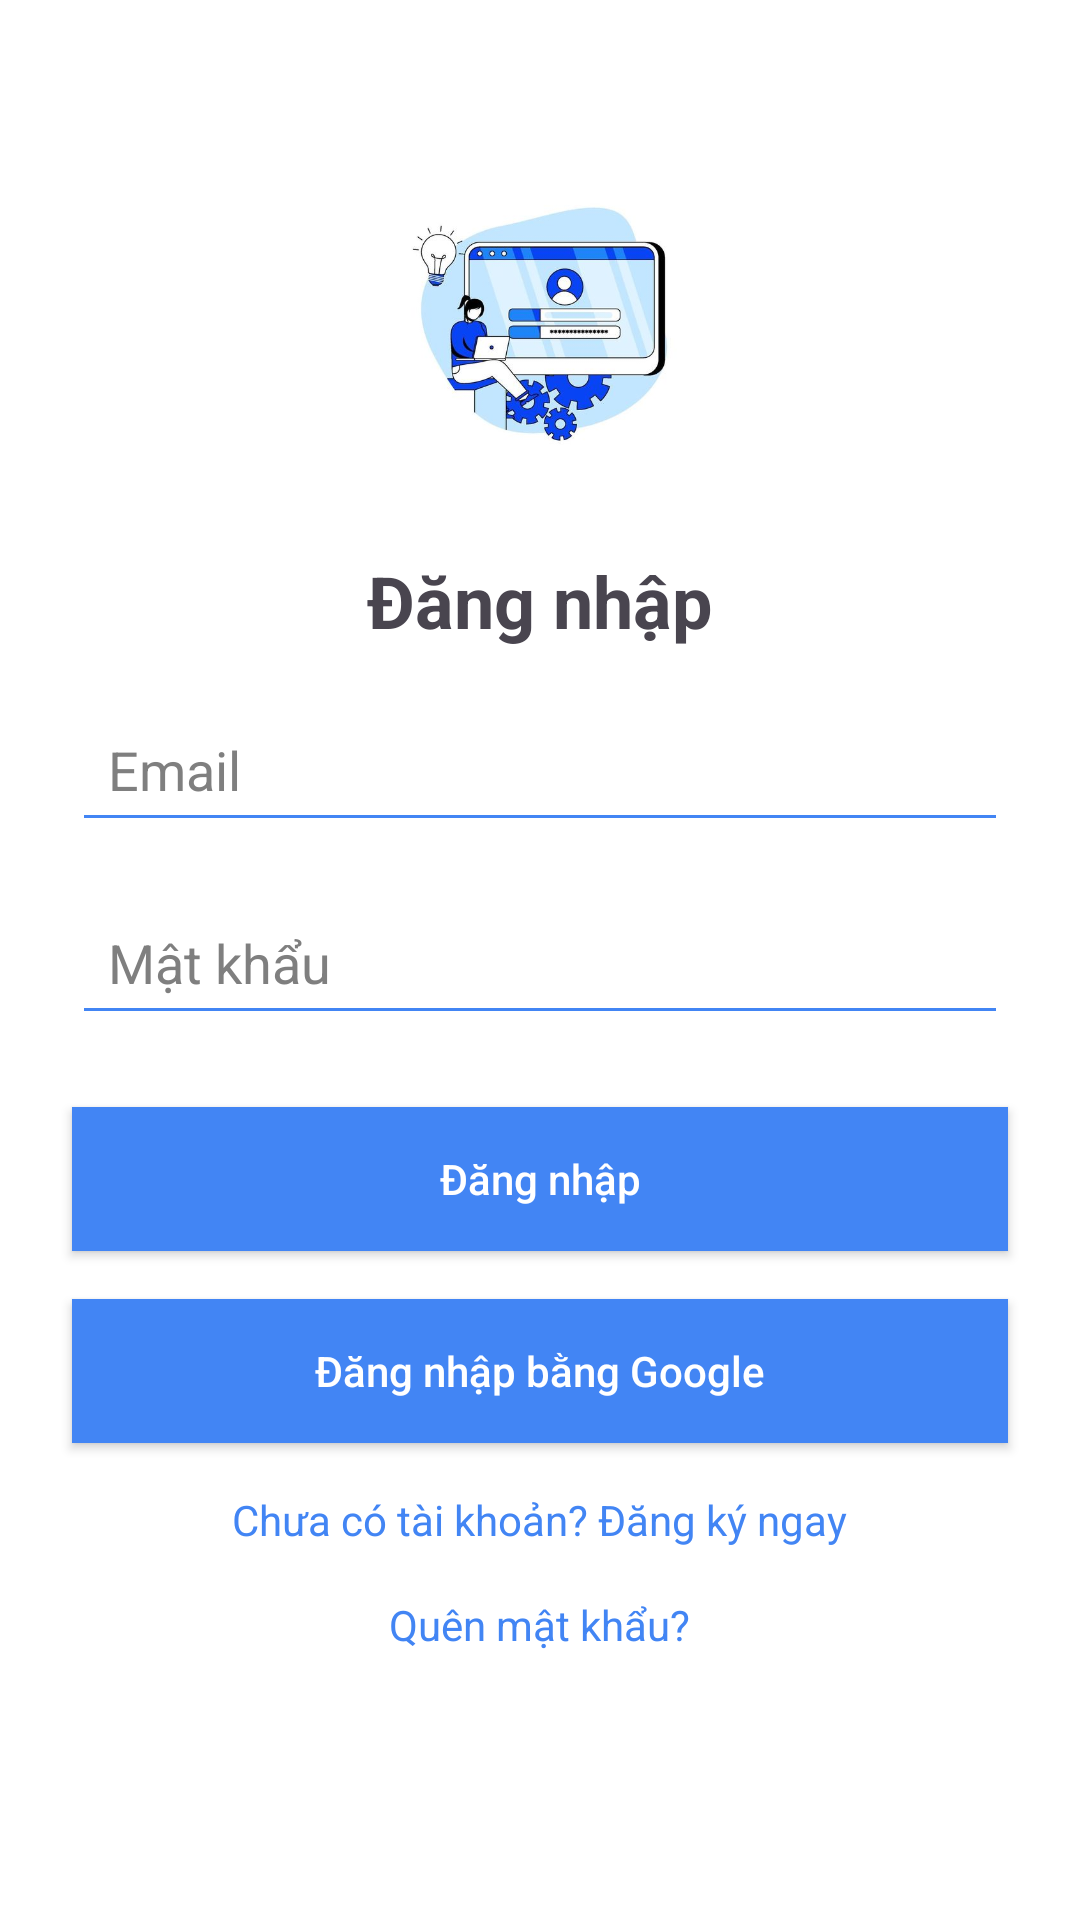

Point at icon controls on the screen. Image size 1080 x 1920, points as [x,y].
login: [540,324]
